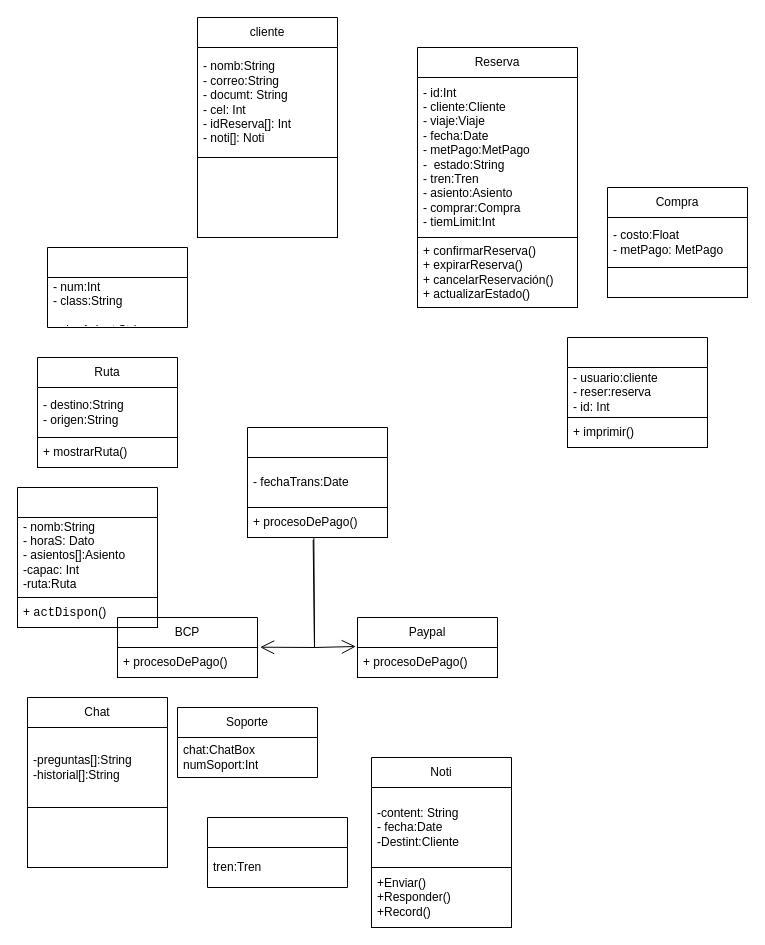
Some shapes in this 765 by 945 pixel diagram are drawn without their labels. Each missing label, with the box of its shape:
+ comprarBoleto(): (606, 266, 748, 298)
+ reservar() + verHorario() + verRutas() + hablarChat() + verRecomed(): (196, 156, 338, 238)
+mostrarOp() +MostrarRes() +SeleccionarPreg(): (26, 806, 168, 868)
Asiento: (46, 246, 188, 328)
boleto: (566, 336, 708, 448)
MetPago: (246, 426, 388, 538)
Tren: (16, 486, 158, 628)
Viaje: (206, 816, 348, 888)
